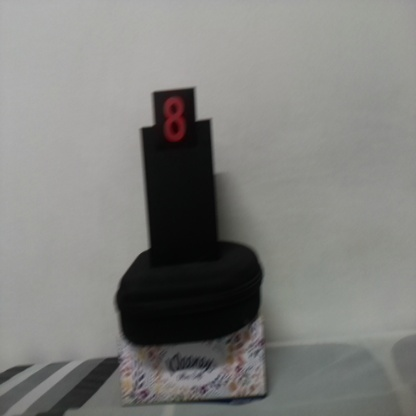id_8: (152, 92, 197, 158)
